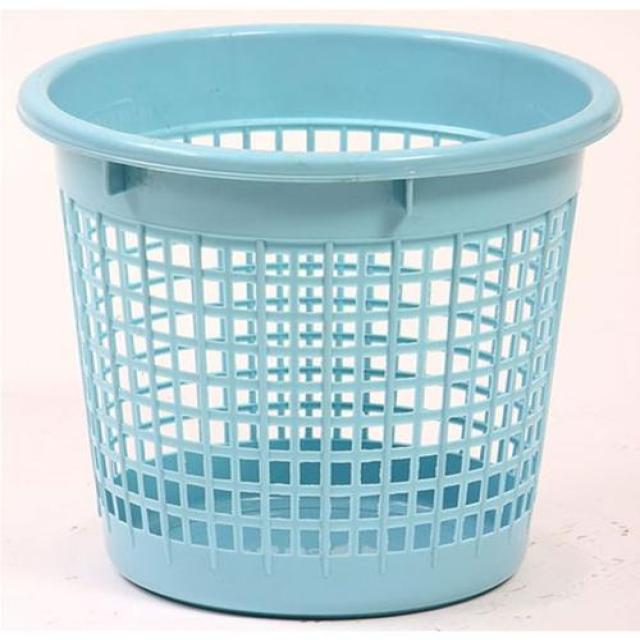dustbin: (11, 19, 628, 623)
